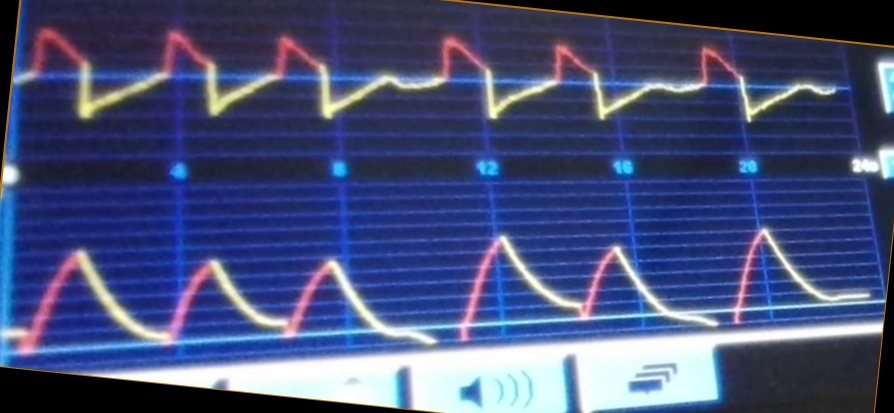Ineffective_effort Flow: (24, 23, 832, 145)
Ineffective_effort Volume: (9, 224, 871, 358)
